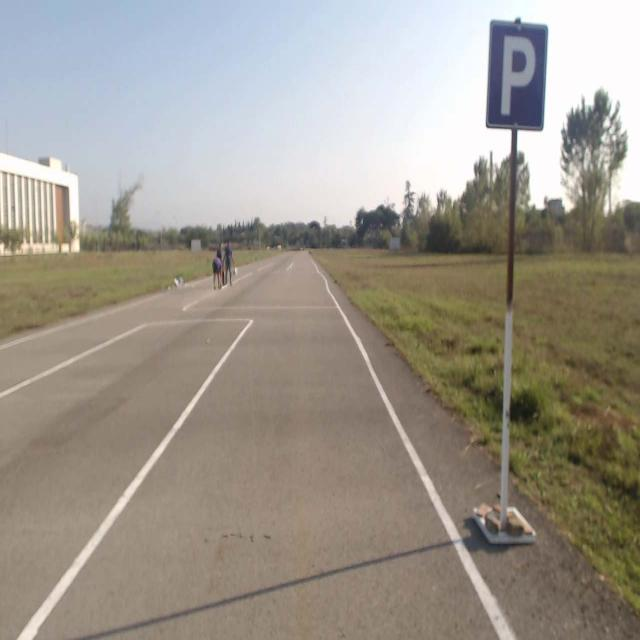park: (486, 19, 544, 130)
